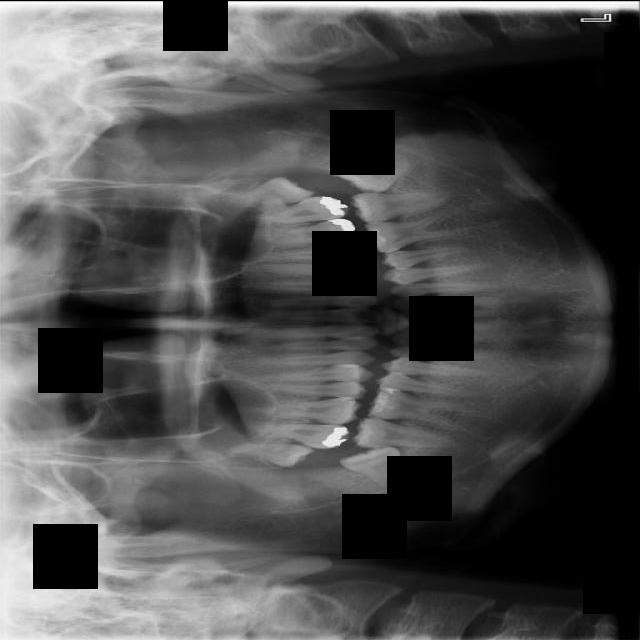3M ESPE Implant: (217, 440, 315, 469)
52: (364, 380, 411, 429), (362, 212, 408, 258), (315, 213, 360, 253), (313, 393, 364, 427), (298, 423, 352, 450), (297, 195, 350, 220), (375, 370, 414, 392), (381, 443, 399, 446)
73: (559, 24, 570, 30)
BioHorizons Implant: (255, 192, 351, 226)
BioLife Implant: (199, 169, 316, 219)
Biomet 3i Implant: (328, 147, 417, 203)
Blue Sky Bio Implant: (348, 188, 454, 224)
Caries: (243, 419, 354, 450)
Implant: (351, 416, 463, 448)
Keystone Dental Implant: (337, 441, 414, 498)
